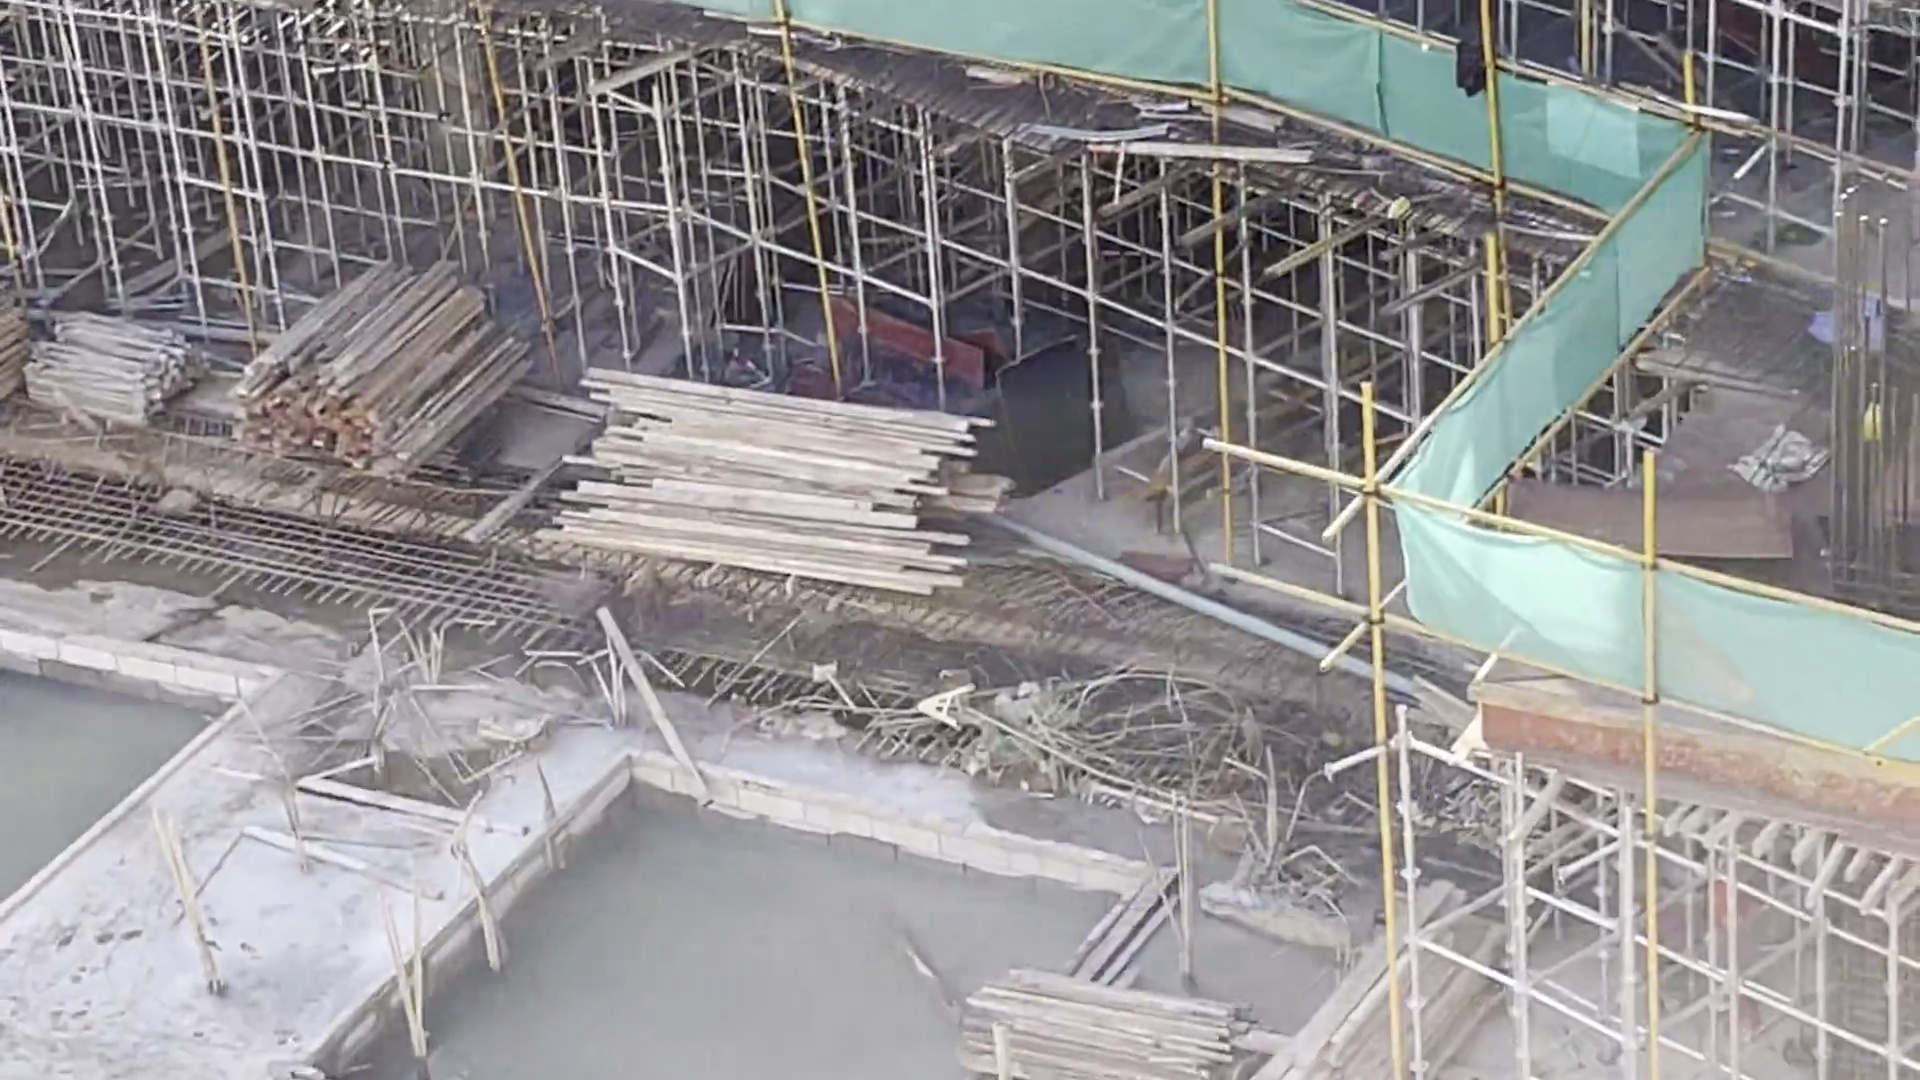wood: (556, 364, 1011, 626), (229, 251, 514, 479)
